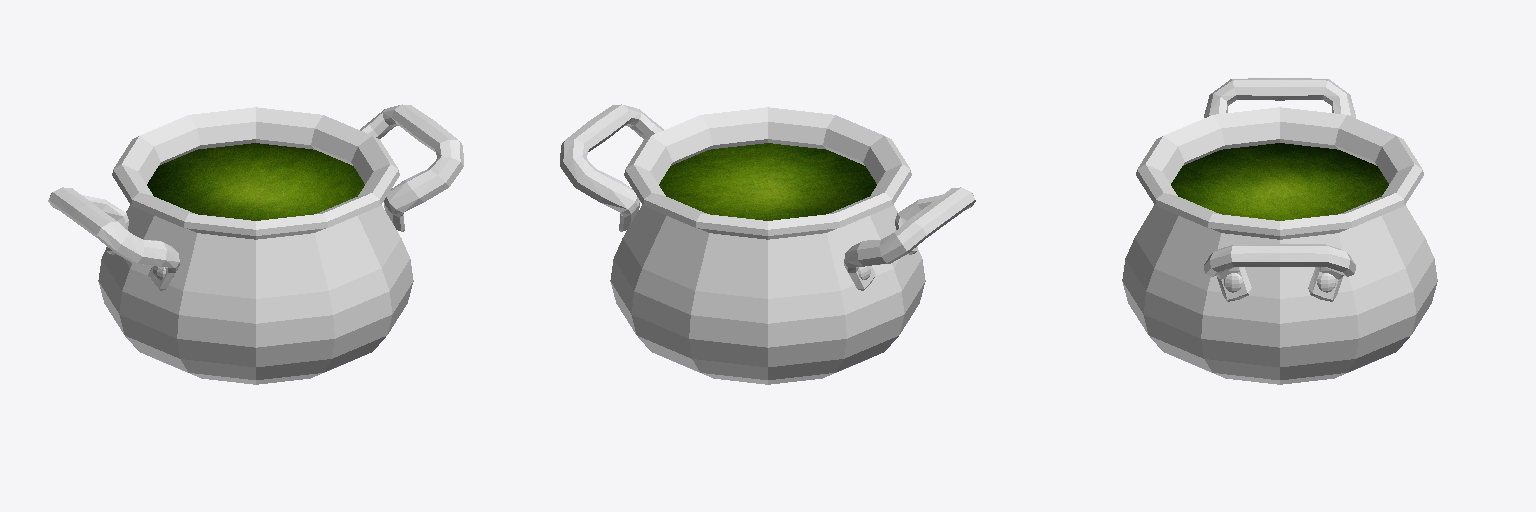
3 renders of one model, left to right at view 1: azimuth 30°, elevation 25°; view 2: azimuth 150°, elevation 25°; view 3: azimuth 270°, elevation 25°, orthographic.
Parts seen in each view (by area): view 1: polygon2, topoDaSopa, polygon3; view 2: polygon2, topoDaSopa, polygon3; view 3: polygon2, topoDaSopa, polygon3, polygon4.
Boxes of the visible parts, x1=… form: polygon2: x1=98, y1=107, x2=413, y2=384; topoDaSopa: x1=147, y1=143, x2=364, y2=220; polygon3: x1=48, y1=104, x2=463, y2=290; polygon2: x1=610, y1=107, x2=925, y2=384; topoDaSopa: x1=659, y1=143, x2=876, y2=220; polygon3: x1=560, y1=104, x2=975, y2=290; polygon2: x1=1122, y1=107, x2=1437, y2=384; topoDaSopa: x1=1171, y1=143, x2=1388, y2=220; polygon3: x1=1204, y1=78, x2=1355, y2=301; polygon4: x1=1224, y1=273, x2=1335, y2=292.
Size of the model in its own units: 1.71 by 0.8305 by 1.27.
4 materials, 1 textured.